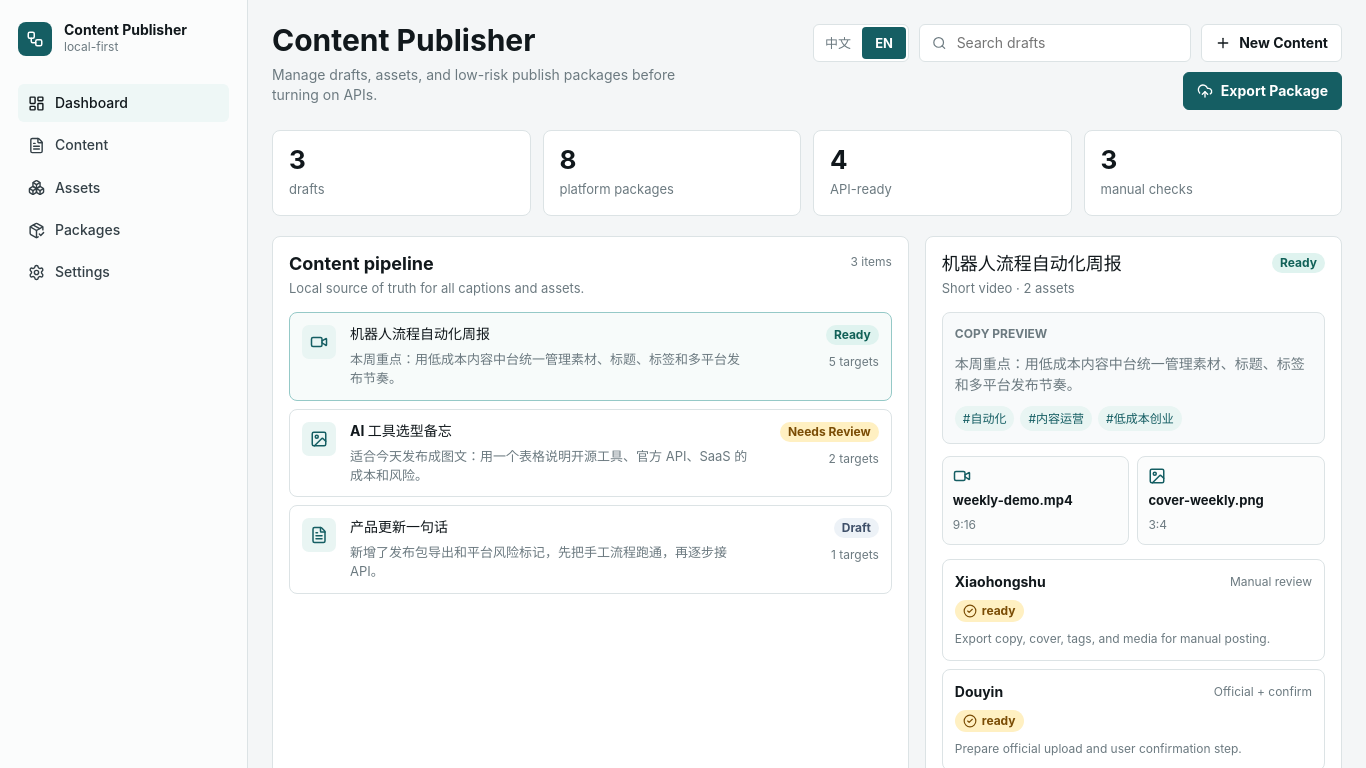
App › switches the selected draft from the pipeline
Click the button "AI 工具选型备忘": click(590, 453) [289,409,892,497]
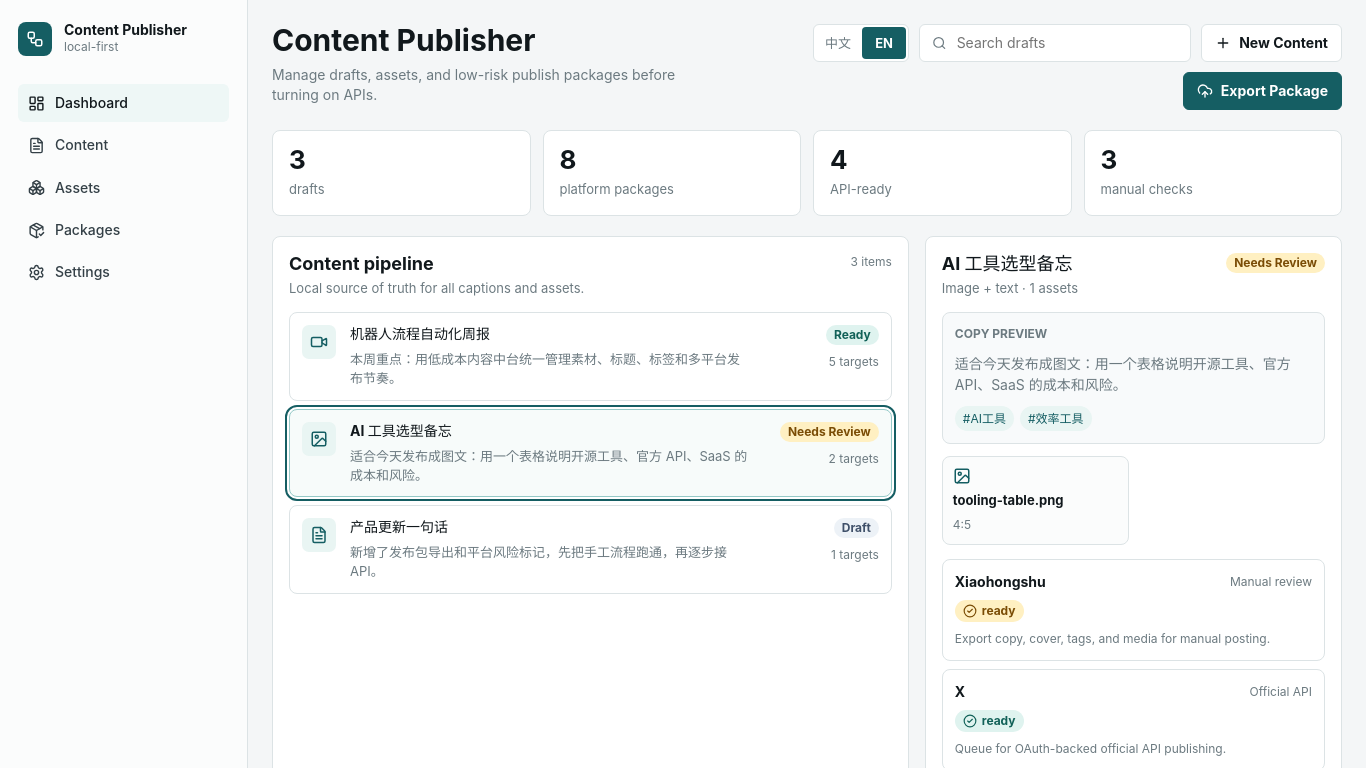
Expected: the text "Xiaohongshu" is shown, [955,572,1046,592]
Result: the heading "AI 工具选型备忘" is shown at [942,253,1078,275]
